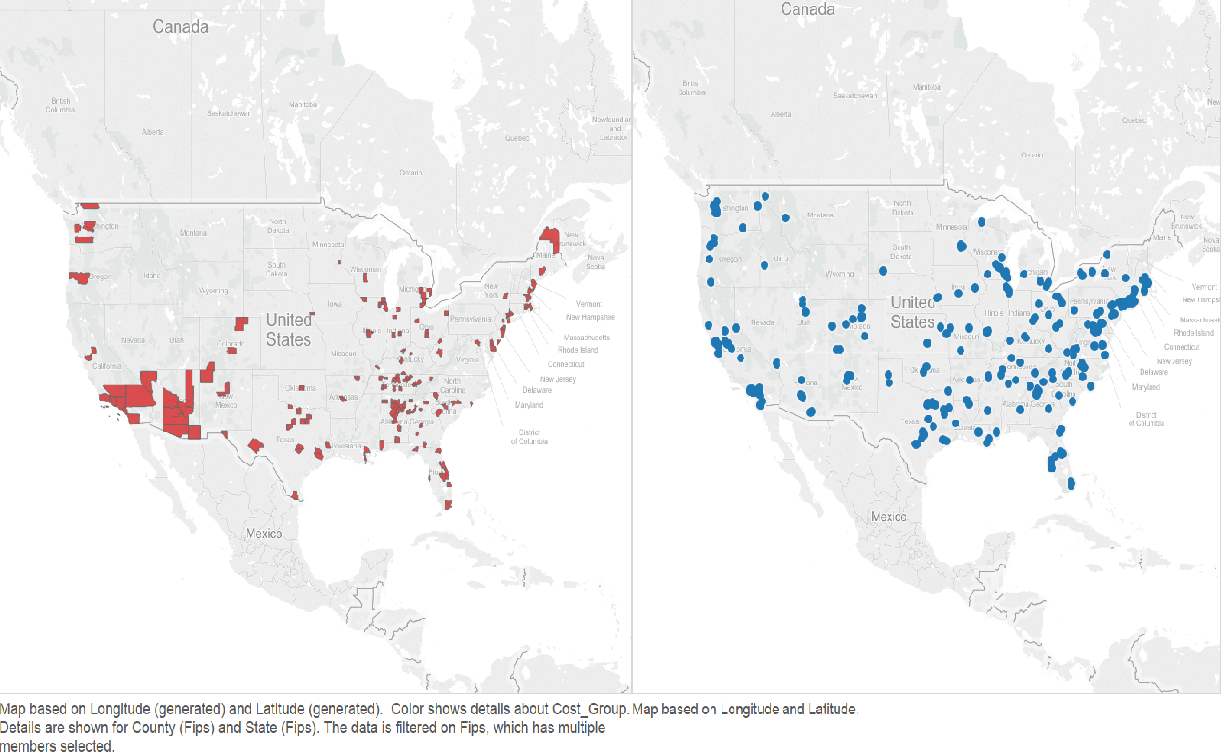

The dashboard page shown, as its layout file describes it:
{"tool":"tableau","page":{"name":"Dashboard 1","canvas":[1000,800],"ordinal":0},"visuals":[{"type":"worksheet","title":"Sheet 3","mark":"Multipolygon","box":[0,0,500,800]},{"type":"worksheet","title":"Sheet 5","mark":"Circle","rows":["LATITUDE"],"cols":["LONGITUDE"],"box":[500,0,500,800]}]}

Visuals, with their boxes on the page's 1000x800 design canvas (x1, y1, x2, y2). These are canvas units, not pixel positions in the 1222x755 screenshot, which may show the page scaled, cropped or inside an application window:
"Sheet 3" worksheet (Multipolygon marks): (0, 0, 500, 800)
"Sheet 5" worksheet (Circle marks): (500, 0, 1000, 800)
